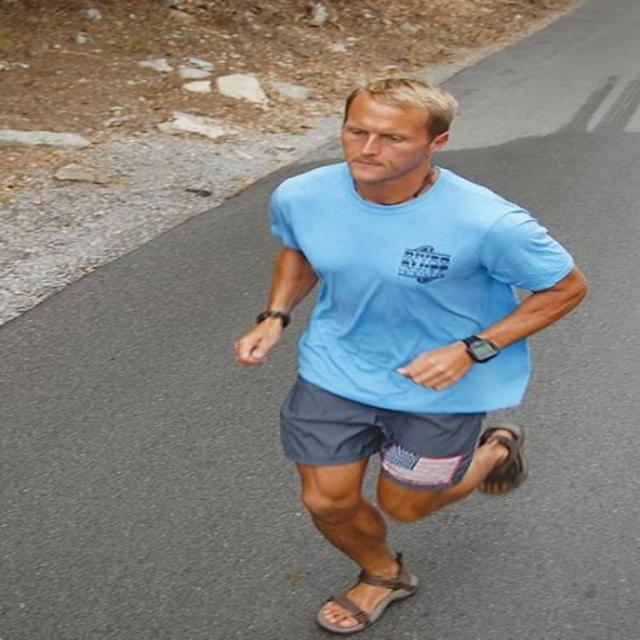Face: (339, 86, 455, 181)
